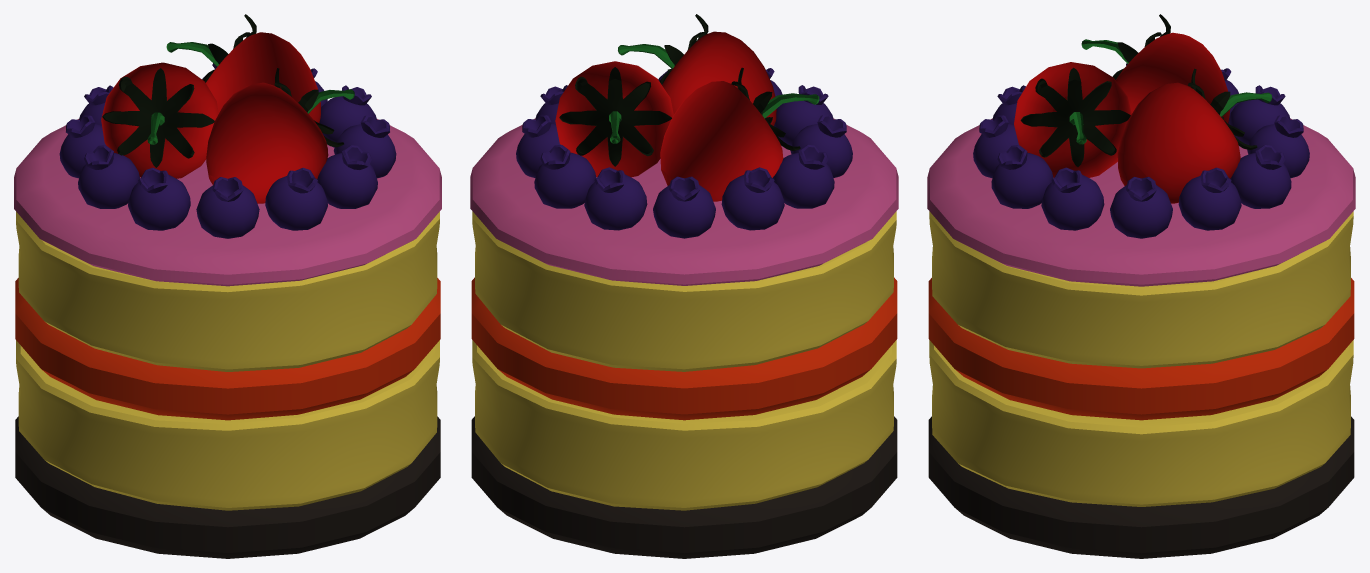
File: Panna Cotta_1.FBX
3 renders of one model, left to right at view 1: azimuth 30°, elevation 25°; view 2: azimuth 150°, elevation 25°; view 3: azimuth 270°, elevation 25°, orthographic.
Visible parts, largest first — view 1: Panna Cotta_1; view 2: Panna Cotta_1; view 3: Panna Cotta_1.
Part boxes in pixels (<box>): Panna Cotta_1: <box>14,14,441,558</box>; Panna Cotta_1: <box>470,14,898,558</box>; Panna Cotta_1: <box>927,14,1355,558</box>.
Size of the model in its own units: 955 by 940 by 1006.
